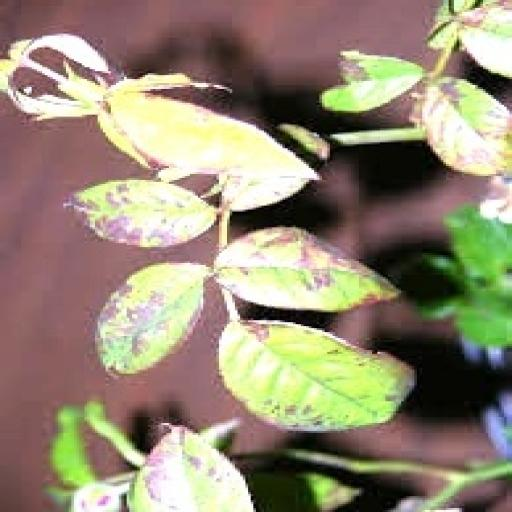downy_mildew: (220, 321, 414, 430), (103, 87, 316, 179), (214, 228, 398, 312), (98, 263, 208, 373), (130, 427, 253, 511), (69, 180, 216, 247), (420, 78, 511, 175), (322, 52, 424, 112), (447, 206, 511, 280), (249, 473, 358, 511), (457, 2, 511, 77), (51, 408, 97, 486)
